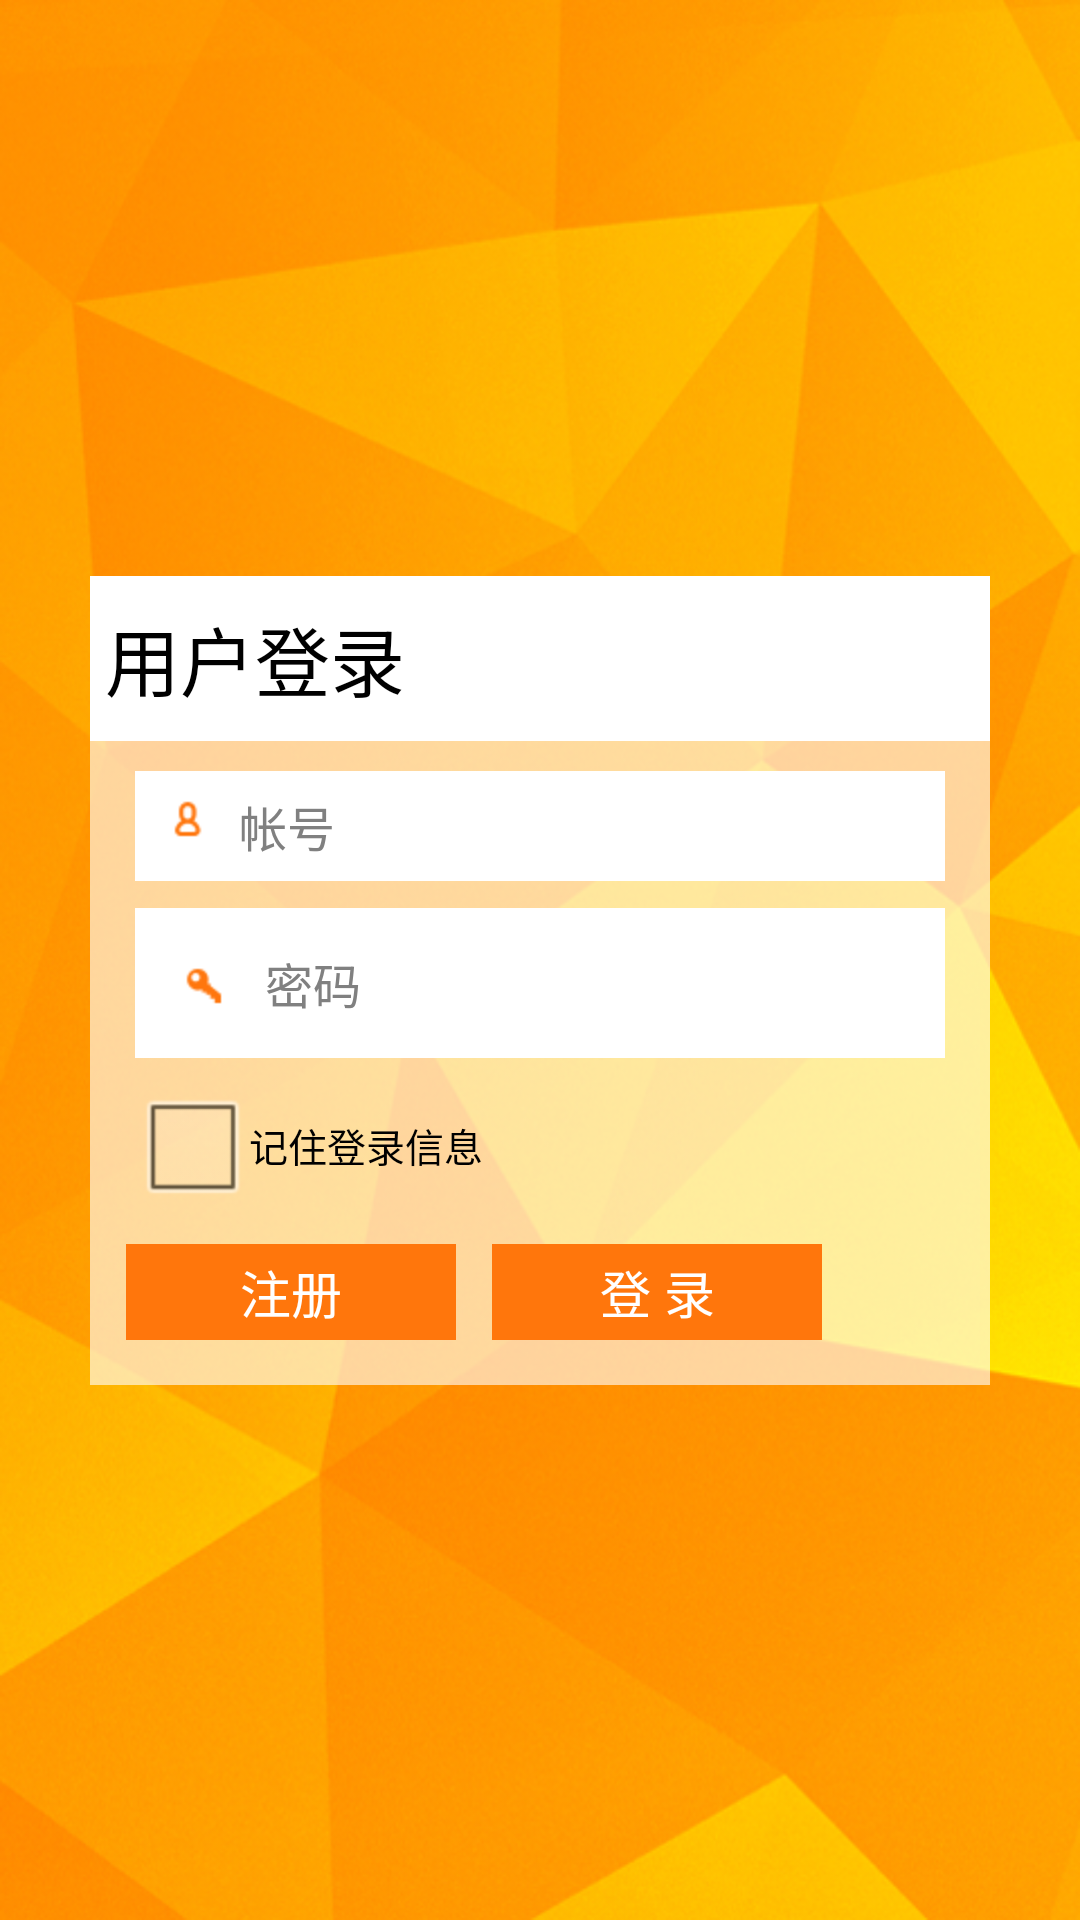

Screen size 1080*1920. Icon name, then its box in pixels as (x1, y1, x2, y2):
login pwd: (186, 968, 222, 1004)
login user: (174, 801, 202, 837)
